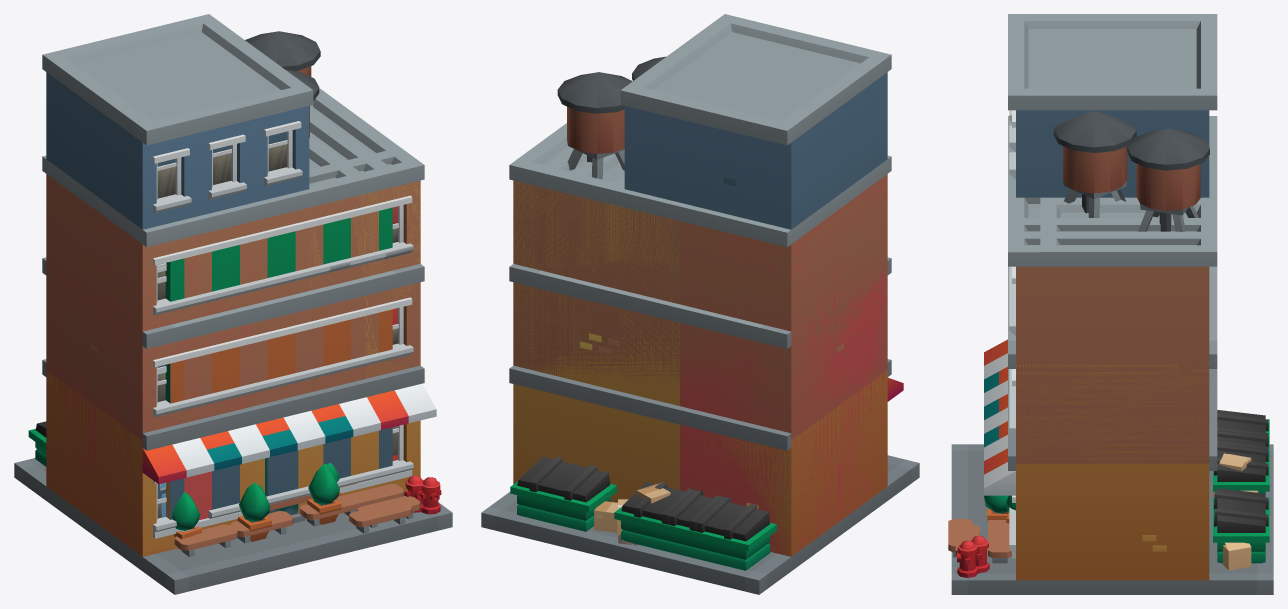
Rendered from city.glb.
3 views of the same model, side by side, from view 1: azimuth 30°, elevation 25°; view 2: azimuth 150°, elevation 25°; view 3: azimuth 270°, elevation 25° (orthographic).
Visible parts, largest first — view 1: building_E, building_H, building_F, building_D, building_G, building_B, building_A, building_C; view 2: building_E, building_F, building_H, building_D, building_G, building_C, building_B, building_A; view 3: building_E, building_H, building_D, building_F, building_C, building_G, building_B, building_A.
Boxes of the visible parts, left/top/right/bottom form: building_E: left=42, top=105, right=436, bottom=556; building_H: left=28, top=14, right=420, bottom=533; building_F: left=46, top=175, right=424, bottom=556; building_D: left=15, top=69, right=452, bottom=594; building_G: left=42, top=88, right=441, bottom=532; building_B: left=170, top=270, right=396, bottom=543; building_A: left=207, top=277, right=423, bottom=513; building_C: left=14, top=135, right=360, bottom=594; building_E: left=509, top=146, right=903, bottom=556; building_F: left=511, top=177, right=889, bottom=556; building_H: left=557, top=14, right=891, bottom=570; building_D: left=482, top=56, right=918, bottom=580; building_G: left=509, top=123, right=891, bottom=563; building_C: left=481, top=150, right=919, bottom=594; building_B: left=537, top=270, right=763, bottom=547; building_A: left=565, top=277, right=734, bottom=495; building_E: left=972, top=197, right=1269, bottom=580; building_H: left=955, top=14, right=1269, bottom=570; building_D: left=948, top=111, right=1273, bottom=580; building_F: left=984, top=340, right=1217, bottom=563; building_C: left=951, top=204, right=1273, bottom=594; building_G: left=957, top=116, right=1269, bottom=577; building_B: left=988, top=266, right=1269, bottom=531; building_A: left=971, top=371, right=1015, bottom=573.
Size of the model in its own units: 2.01 by 3.11 by 2.02.
1 material, 1 textured.
